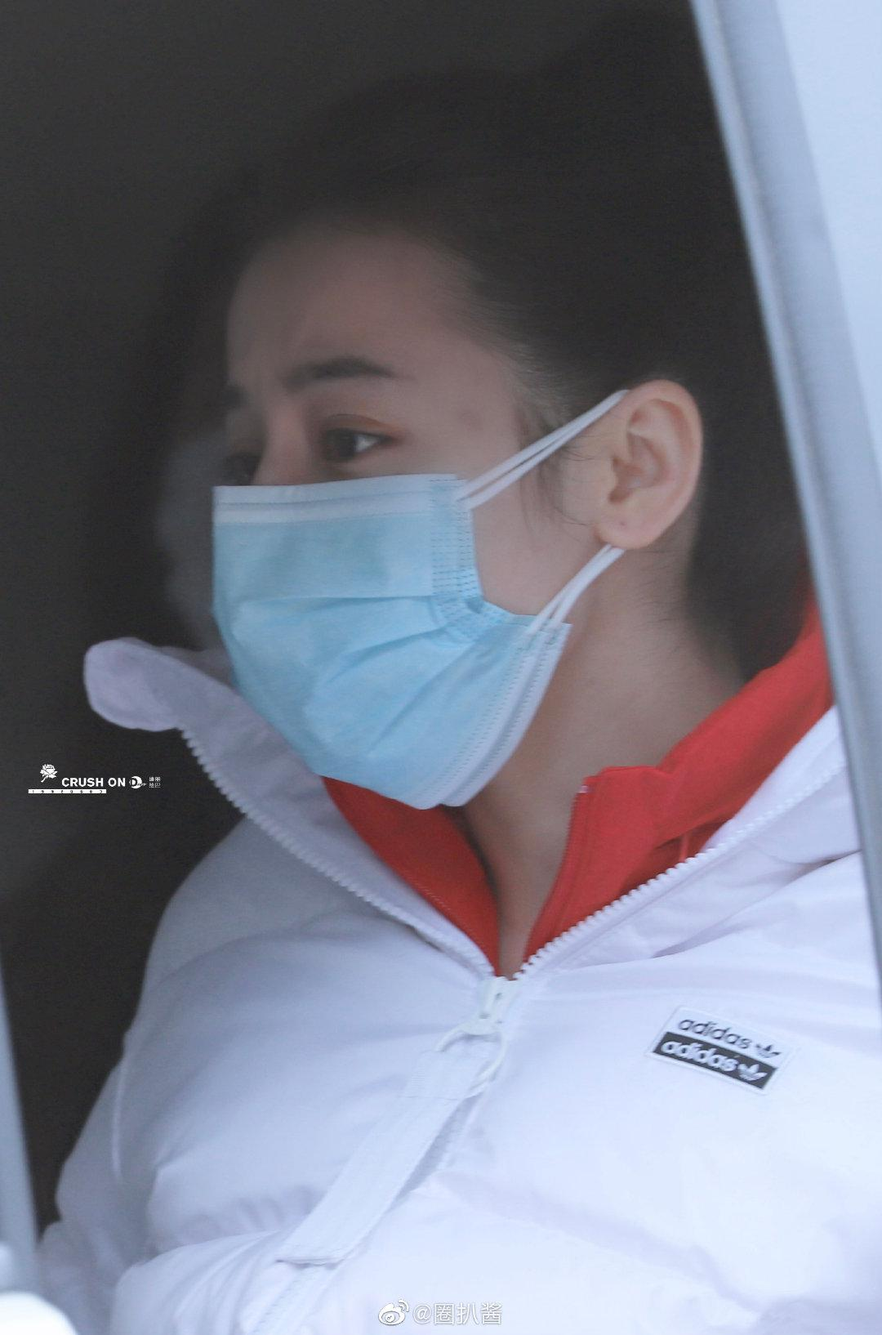OK: (211, 293, 535, 811)
